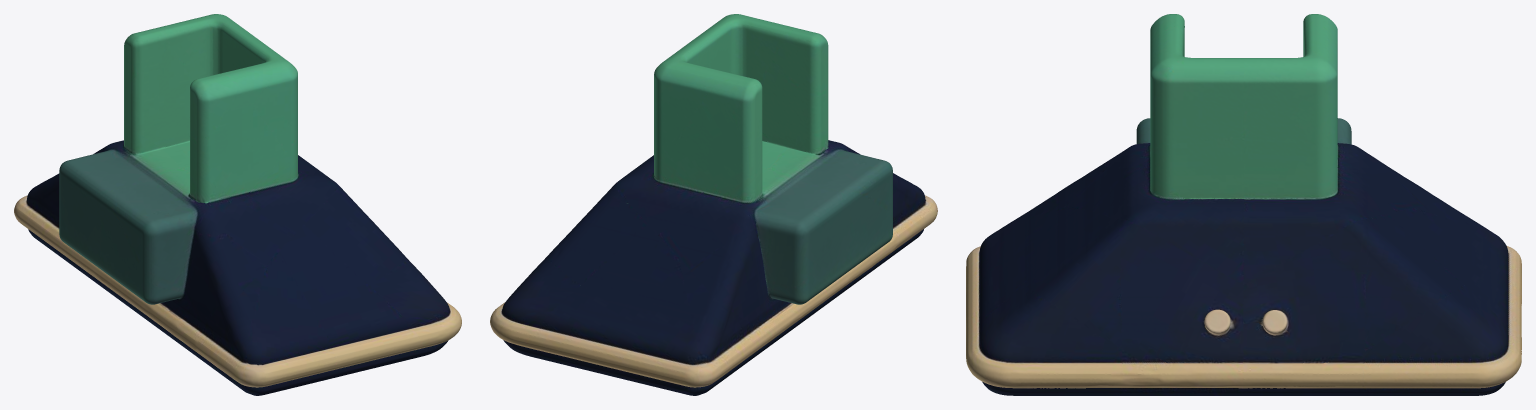
File: HoodKR.glb
The picture shows the model from 3 angles, left to right: view 1: azimuth 30°, elevation 25°; view 2: azimuth 150°, elevation 25°; view 3: azimuth 270°, elevation 25°; orthographic projection. The views are drawn at different scales.
Visible parts, largest first — view 1: tripo_node_5aefdb63-b7ec-4890-bfaa-98b802162940; view 2: tripo_node_5aefdb63-b7ec-4890-bfaa-98b802162940; view 3: tripo_node_5aefdb63-b7ec-4890-bfaa-98b802162940.
Part boxes in pixels (x1,y1,x2,y2): tripo_node_5aefdb63-b7ec-4890-bfaa-98b802162940: (14, 14, 461, 395); tripo_node_5aefdb63-b7ec-4890-bfaa-98b802162940: (490, 14, 937, 395); tripo_node_5aefdb63-b7ec-4890-bfaa-98b802162940: (966, 14, 1521, 395).
Bounding box in the file's own units: 0.6063 × 0.5794 × 1.
1 material, 1 textured.
